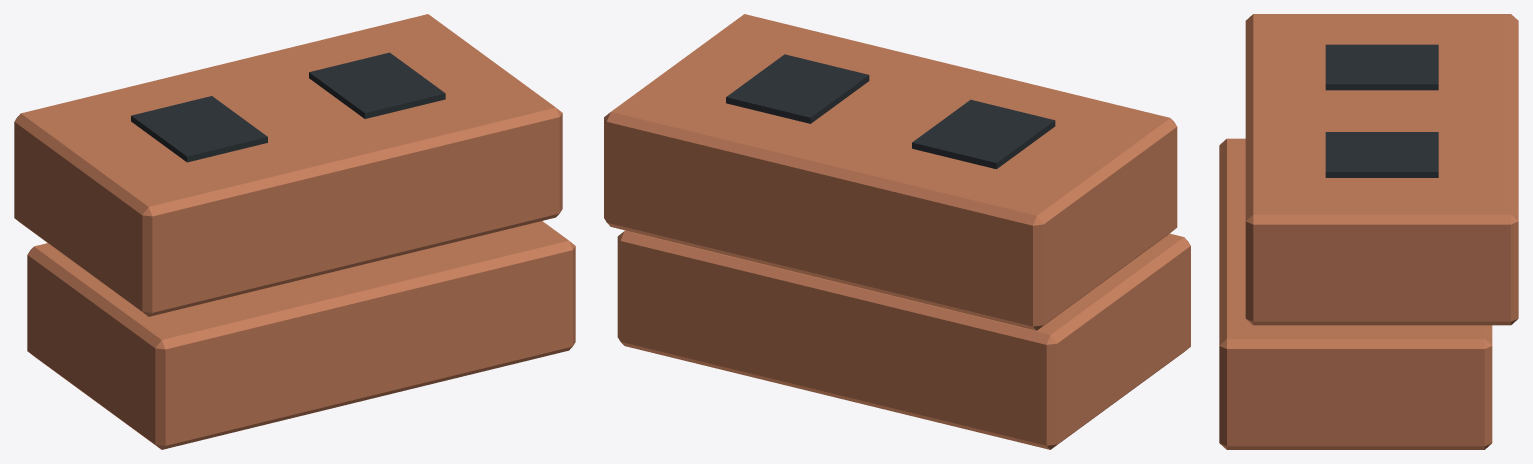
Rendered from bricks.glb.
The picture shows the model from 3 angles, left to right: view 1: azimuth 30°, elevation 25°; view 2: azimuth 150°, elevation 25°; view 3: azimuth 270°, elevation 25°; orthographic projection. The views are drawn at different scales.
Parts seen in each view (by area): view 1: bricks / Clay and fired brick, bricks / Rubber and recesses; view 2: bricks / Clay and fired brick, bricks / Rubber and recesses; view 3: bricks / Clay and fired brick, bricks / Rubber and recesses.
Boxes of the visible parts, <box> form: bricks / Clay and fired brick: <box>14,14,575,449</box>; bricks / Rubber and recesses: <box>131,52,445,162</box>; bricks / Clay and fired brick: <box>604,14,1190,449</box>; bricks / Rubber and recesses: <box>726,54,1055,169</box>; bricks / Clay and fired brick: <box>1219,14,1518,449</box>; bricks / Rubber and recesses: <box>1325,44,1438,177</box>.
Size of the model in its own units: 0.26 by 0.1415 by 0.159.
